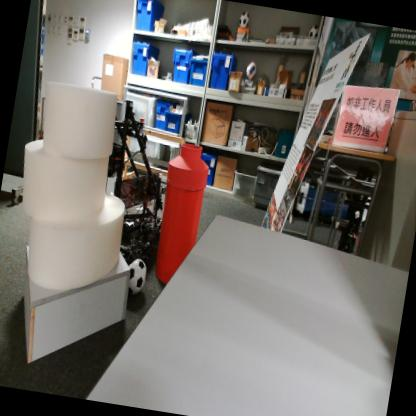ball: (124, 257, 147, 292), (236, 10, 250, 28), (244, 62, 256, 78), (309, 22, 318, 38)
